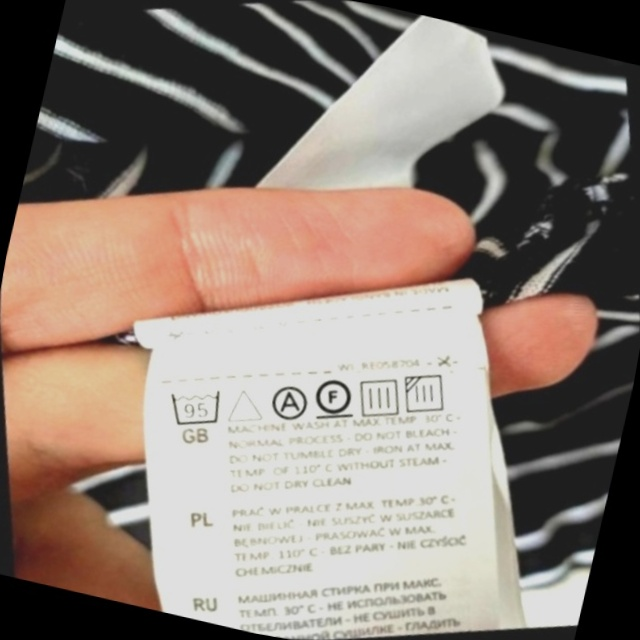95C: (157, 372, 236, 442)
bleach: (215, 374, 273, 435)
drip_dry: (346, 363, 413, 430)
drip_dry_in_shade: (392, 359, 462, 428)
dry_clean: (259, 373, 318, 432)
dry_clean_petrol_only: (302, 363, 366, 431)
